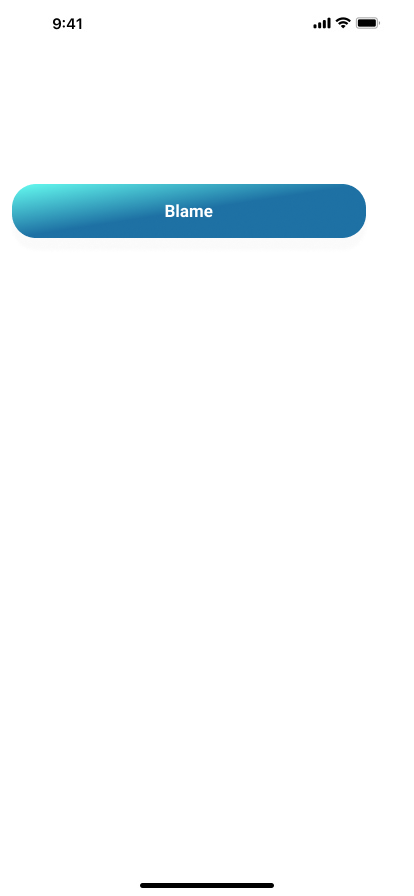Buttons: (8, 184, 374, 254)
Home Indicator: (0, 862, 414, 896)
Status Bar: (0, 0, 414, 44)
